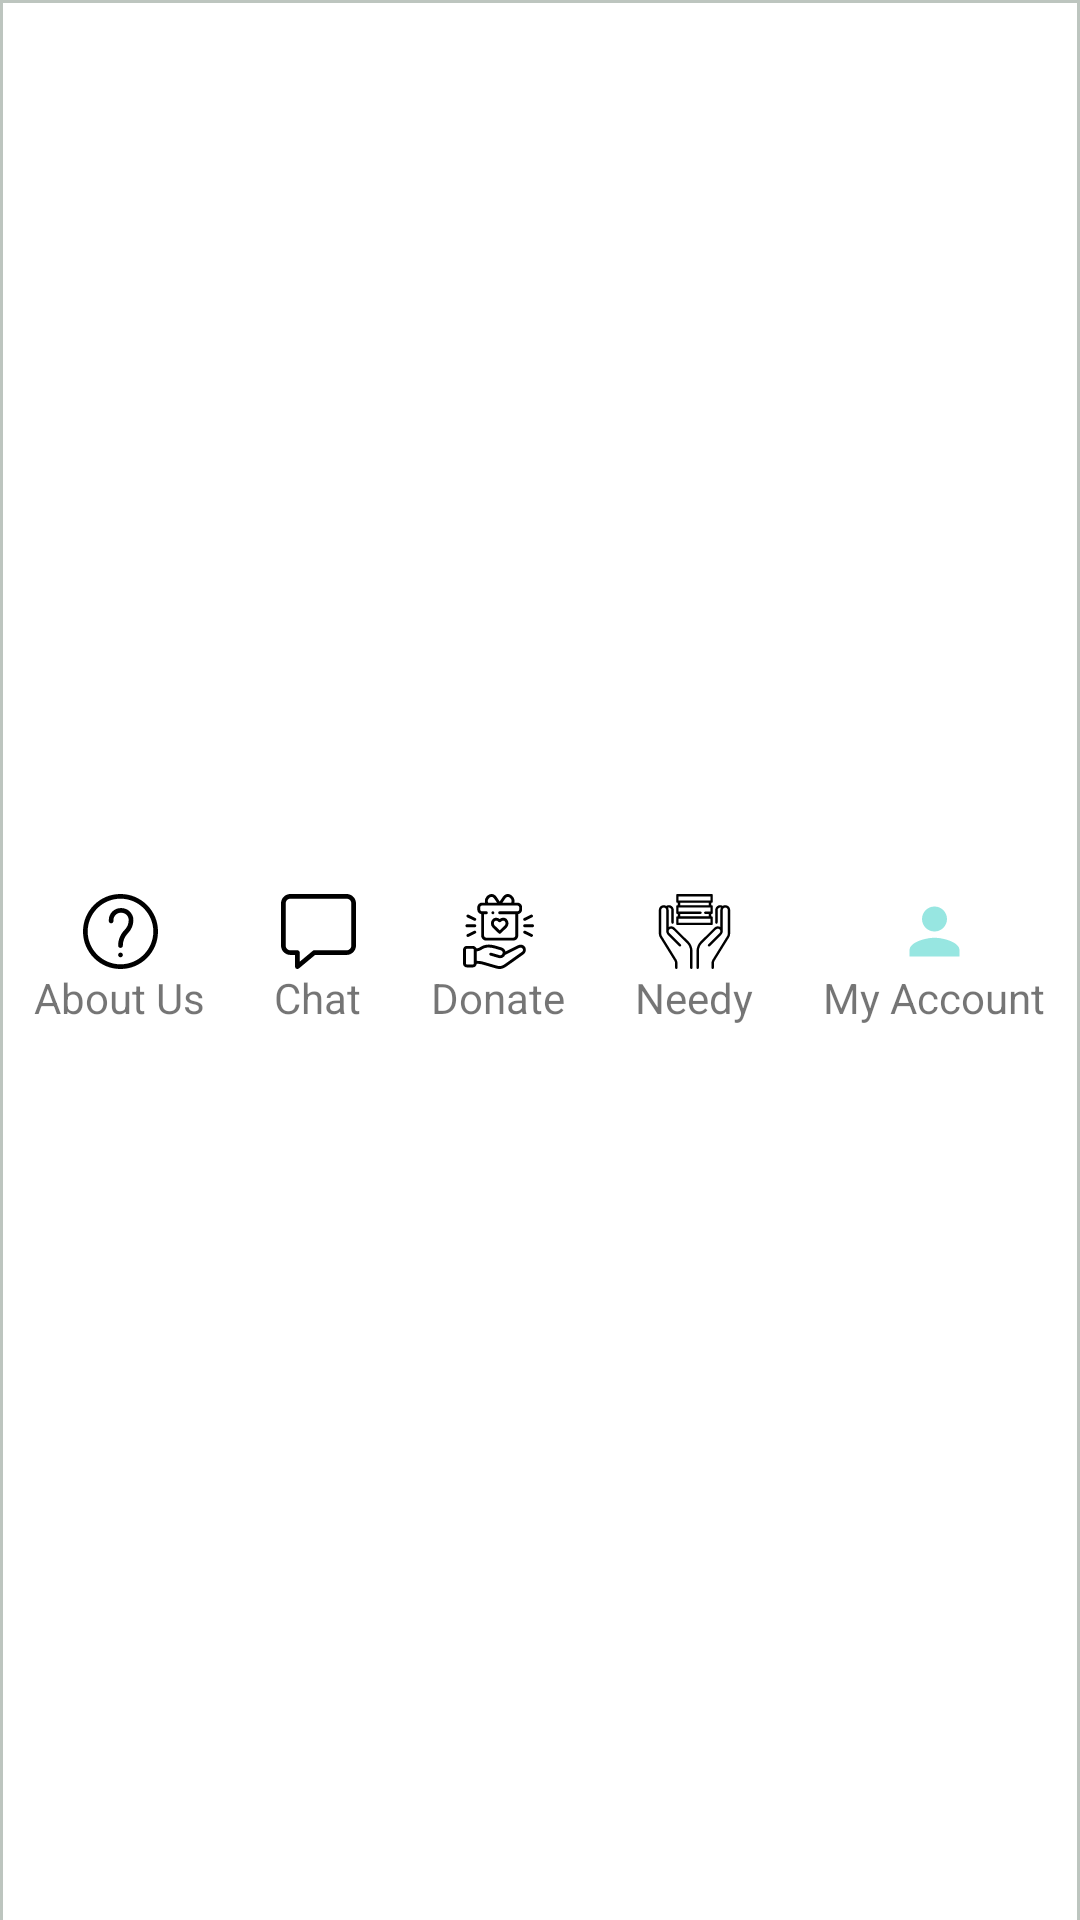

Locate icon controls on the screen. Image size 1080 x 1920, boxes as (x1,y1,x2,y2).
gift: (463,894,534,969)
person: (909,906,960,957)
